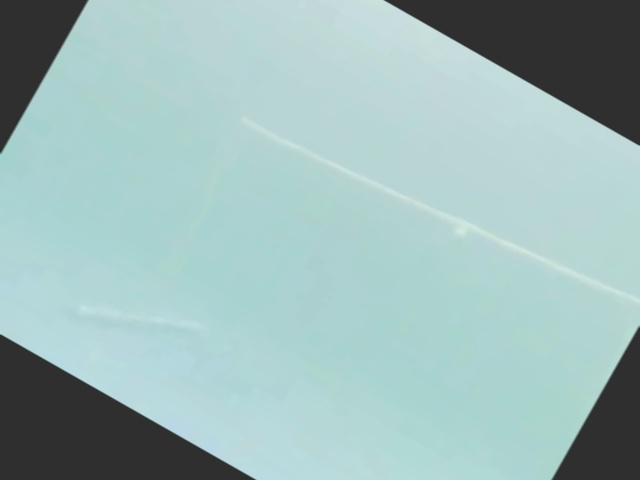gate: (66, 102, 640, 348)
